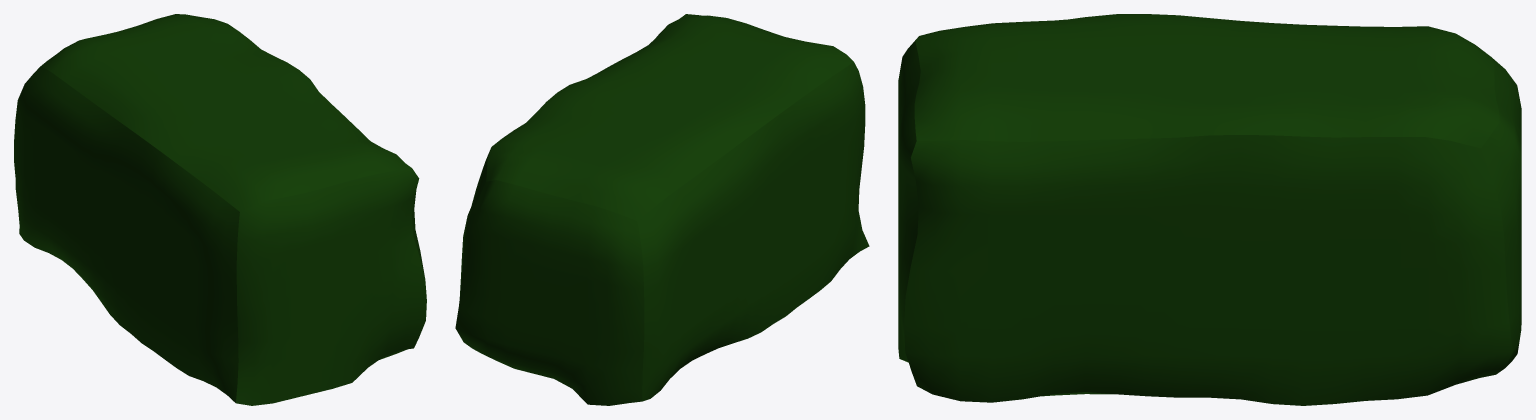
File: Hedge.FBX
The picture shows the model from 3 angles, left to right: view 1: azimuth 30°, elevation 25°; view 2: azimuth 150°, elevation 25°; view 3: azimuth 270°, elevation 25°; orthographic projection. The views are drawn at different scales.
Parts seen in each view (by area): view 1: HedgeRow; view 2: HedgeRow; view 3: HedgeRow.
Boxes of the visible parts, x1=… form: HedgeRow: x1=14, y1=14, x2=426, y2=405; HedgeRow: x1=455, y1=14, x2=869, y2=405; HedgeRow: x1=898, y1=14, x2=1521, y2=405.
Size of the model in its own units: 50 by 50 by 100.
